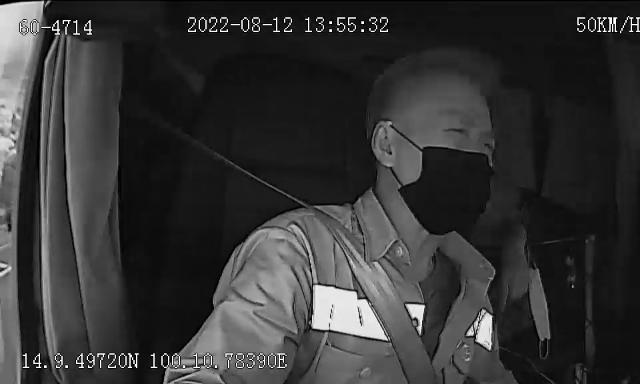Seatbelt: (304, 204, 438, 384)
